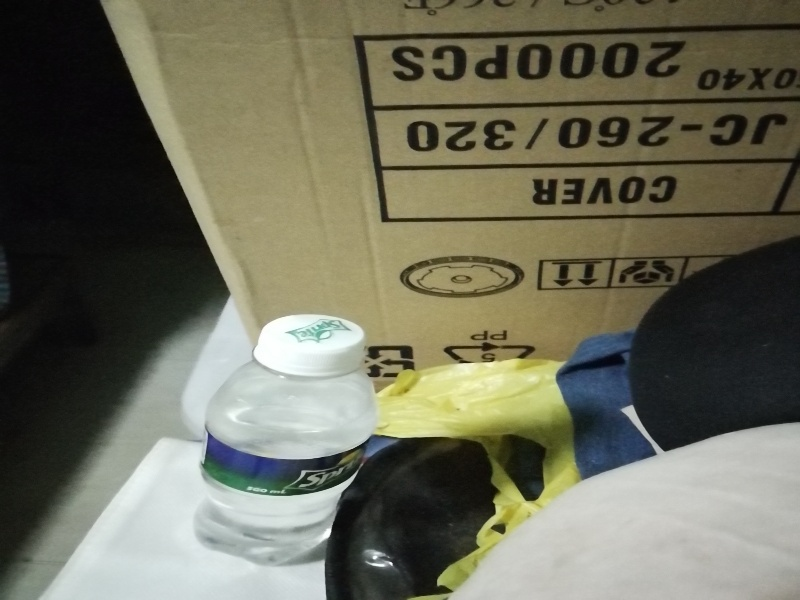PET #1: (191, 313, 375, 570)
